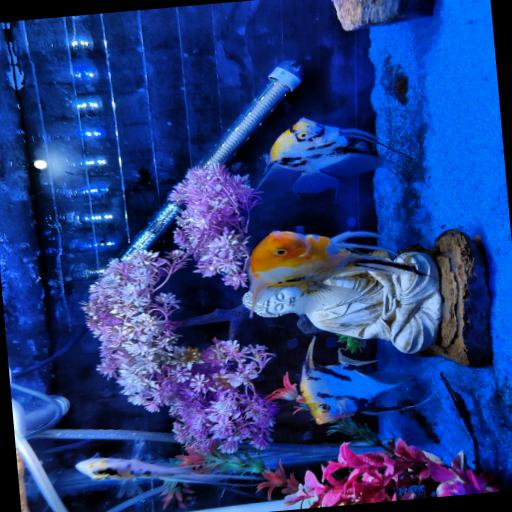Fish: (249, 231, 426, 316), (300, 337, 426, 424), (258, 118, 399, 192), (76, 458, 262, 486)
